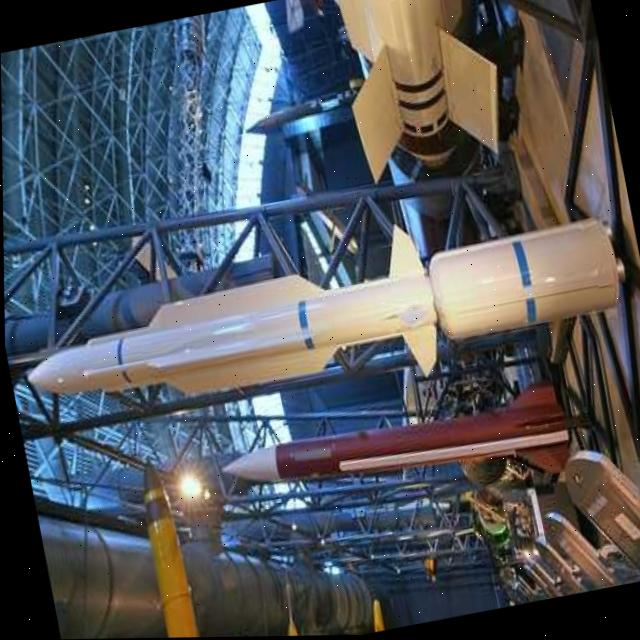missile: (7, 179, 640, 437), (210, 375, 583, 524)
